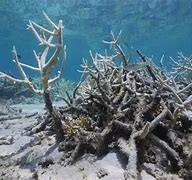bleached_corals: (170, 52, 192, 84)
